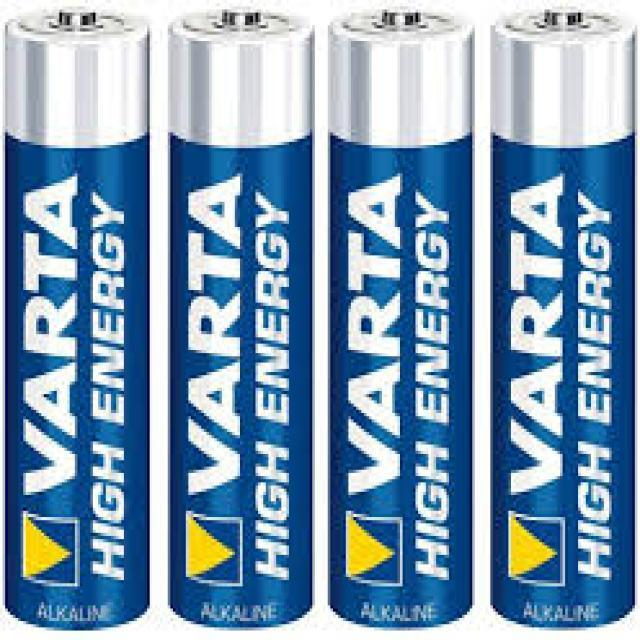Battery: (161, 3, 323, 634), (483, 0, 639, 637), (327, 0, 482, 632), (0, 6, 154, 627)
